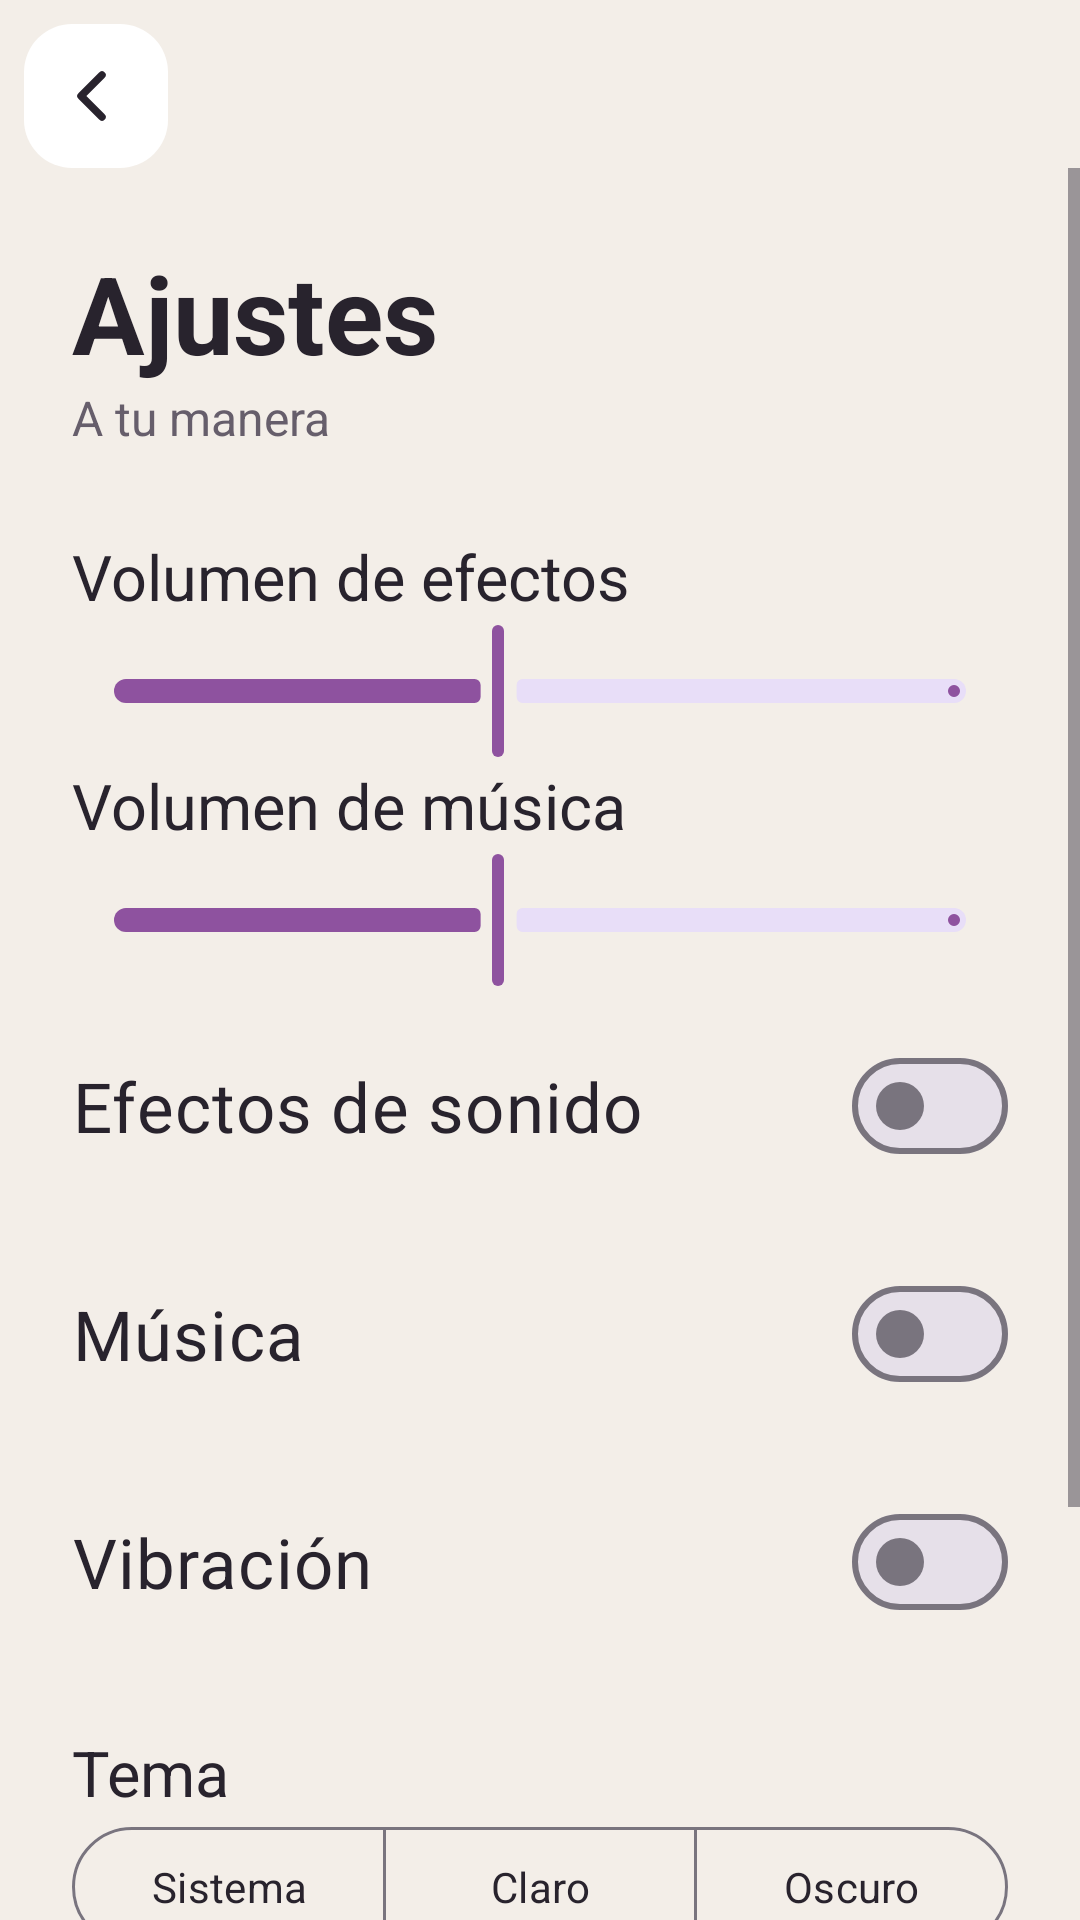

Icons on this 1080px x 1920px Android screen, each with the point to tap as [x,y]:
Volver: [96,96]
